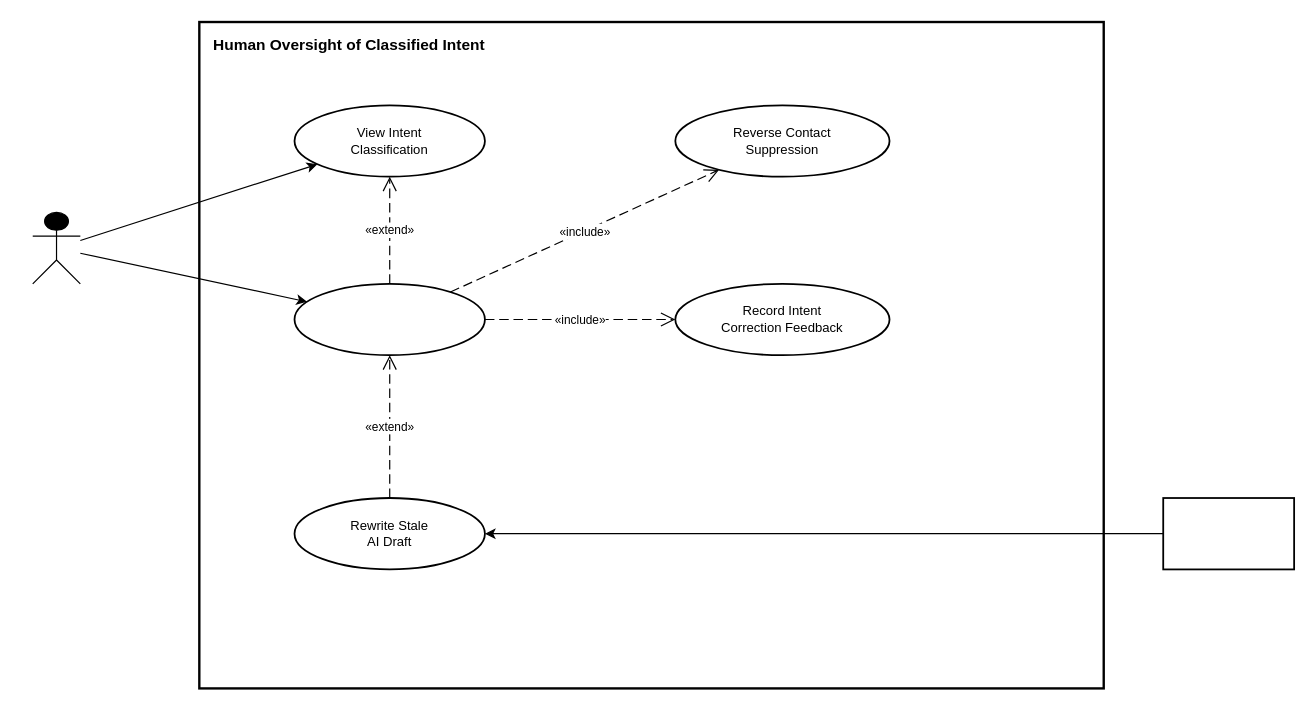
The diagram is 1316 pixels wide and 709 high, and some of its shapes have lost their labels. The box of each missing label's shape, as (x1, y1, x2, y2) in pixels:
BD (Sales Rep): (32, 211, 80, 284)
Correct Reply Intent: (293, 282, 485, 356)
«system» LLM Service: (1162, 497, 1294, 570)
